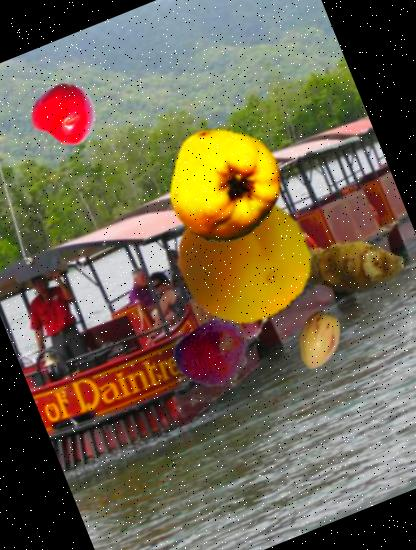Cherry: (20, 70, 106, 156)
Ginger: (288, 201, 416, 331)
Peach: (156, 170, 330, 344)
Pepino: (280, 302, 358, 380)
Quince: (148, 109, 300, 260)
Salak: (165, 306, 261, 402)
